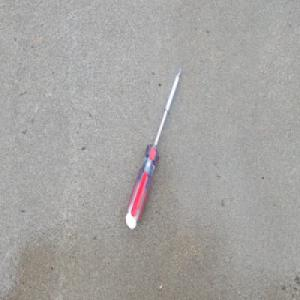Screwdriver: (124, 64, 182, 230)
